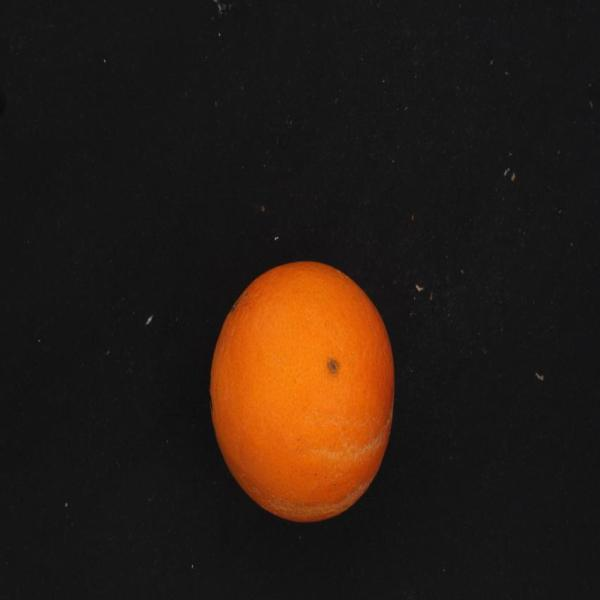Sana: (208, 249, 406, 533)
